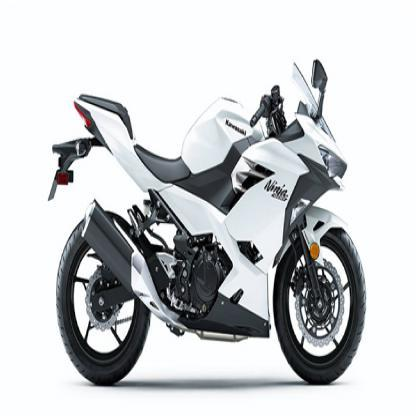Motorcycle: (43, 37, 367, 387)
